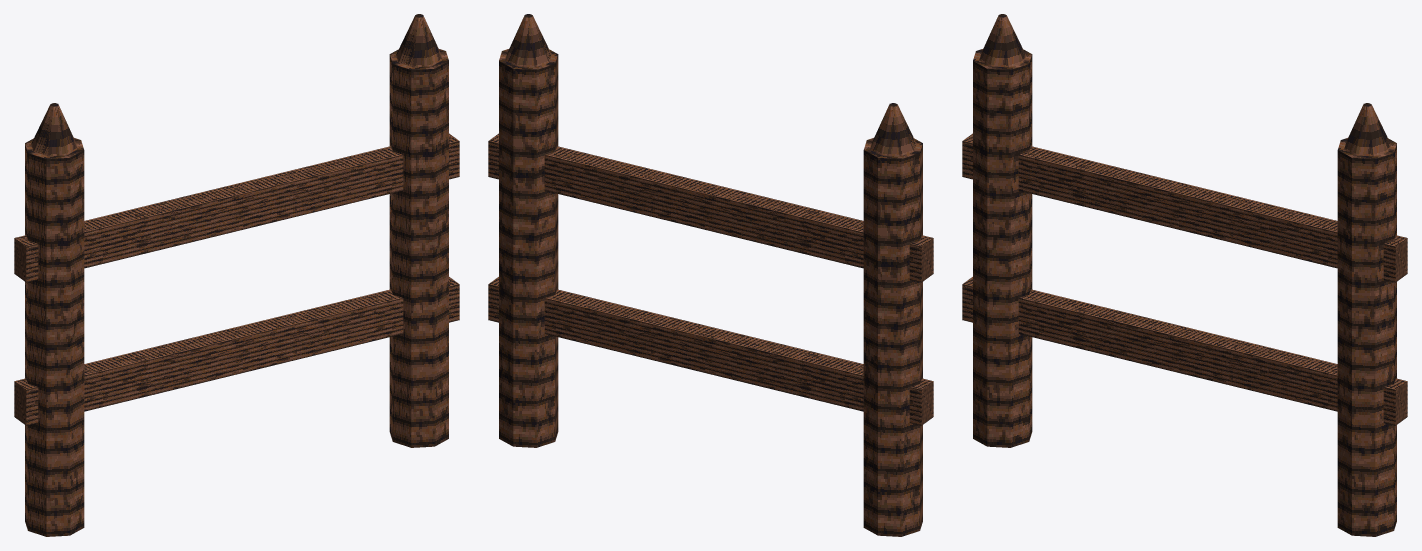
File: valla_madera.glb
The picture shows the model from 3 angles, left to right: view 1: azimuth 30°, elevation 25°; view 2: azimuth 150°, elevation 25°; view 3: azimuth 330°, elevation 25°; orthographic projection.
Parts seen in each view (by area): view 1: Cylinder, Cylinder.001, Cube.001, Cube, Cone.001, Cone; view 2: Cylinder, Cylinder.001, Cube.001, Cube, Cone.001, Cone; view 3: Cylinder.001, Cylinder, Cube.001, Cube, Cone, Cone.001.
Boxes of the visible parts, x1,y1,x2,y2 form: Cylinder: (25,138,84,536); Cylinder.001: (389,49,448,447); Cube.001: (14,133,459,282); Cube: (14,277,459,425); Cone.001: (396,14,442,67); Cone: (31,103,77,156); Cylinder: (863,138,922,536); Cylinder.001: (499,49,558,447); Cube.001: (488,133,933,282); Cube: (488,277,933,425); Cone.001: (505,14,551,67); Cone: (870,103,916,156); Cylinder.001: (1337,138,1396,536); Cylinder: (973,49,1032,447); Cube.001: (962,133,1407,282); Cube: (962,277,1407,425); Cone: (979,14,1025,67); Cone.001: (1344,103,1390,156).
Bounding box in the file's own units: 1.14 × 1.06 × 0.14.
Materials: 2 (1 with a texture image).
